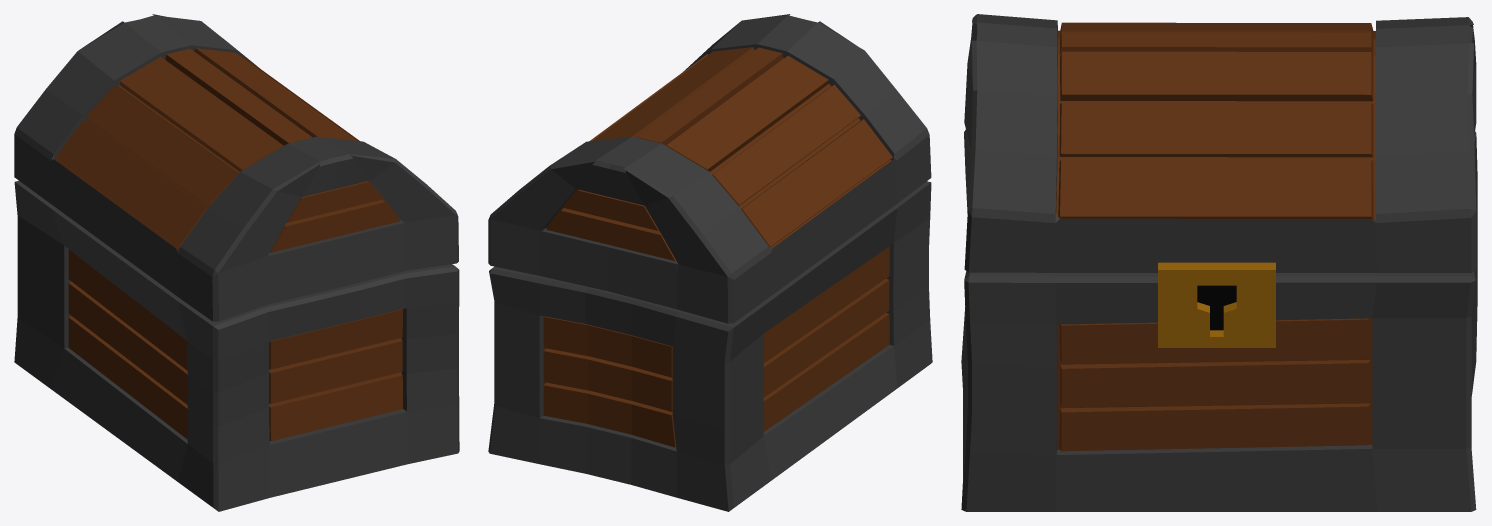
The model's file is TreasureChest.fbx.
3 views of the same model, side by side, from view 1: azimuth 30°, elevation 25°; view 2: azimuth 150°, elevation 25°; view 3: azimuth 270°, elevation 25° (orthographic). The views are drawn at different scales.
Visible parts, largest first — view 1: Cube; view 2: Cube; view 3: Cube.
Boxes of the visible parts, <box> form: Cube: <box>14,14,459,511</box>; Cube: <box>488,14,932,511</box>; Cube: <box>961,14,1477,511</box>.
Bounding box in the file's own units: 147 × 174 × 200.
